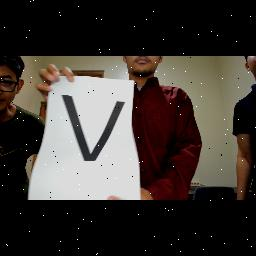v: (54, 88, 130, 164)
